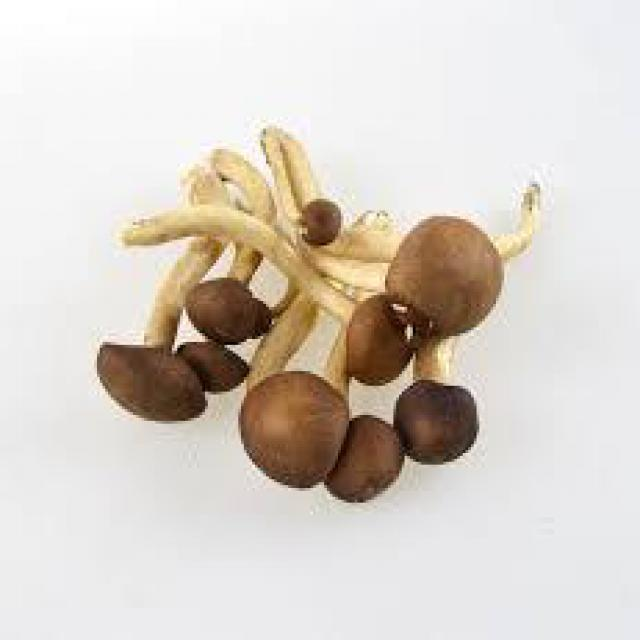Agrocybe aegerita: (102, 124, 544, 505)
